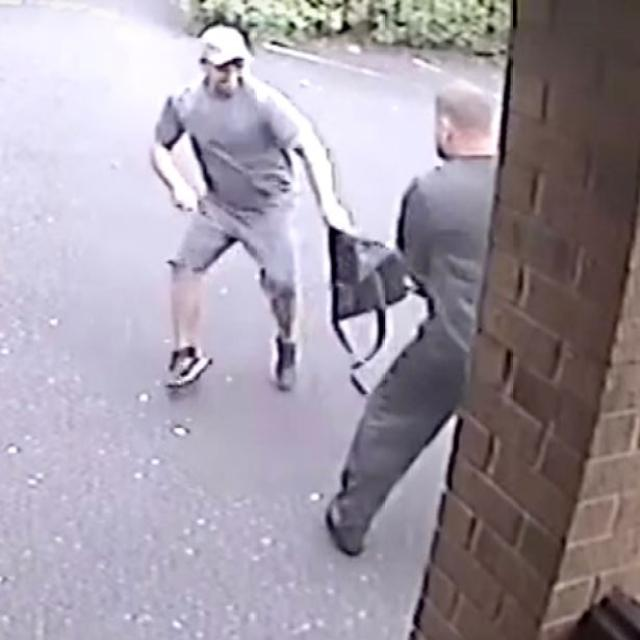Knife_Handle: (172, 185, 226, 231)
